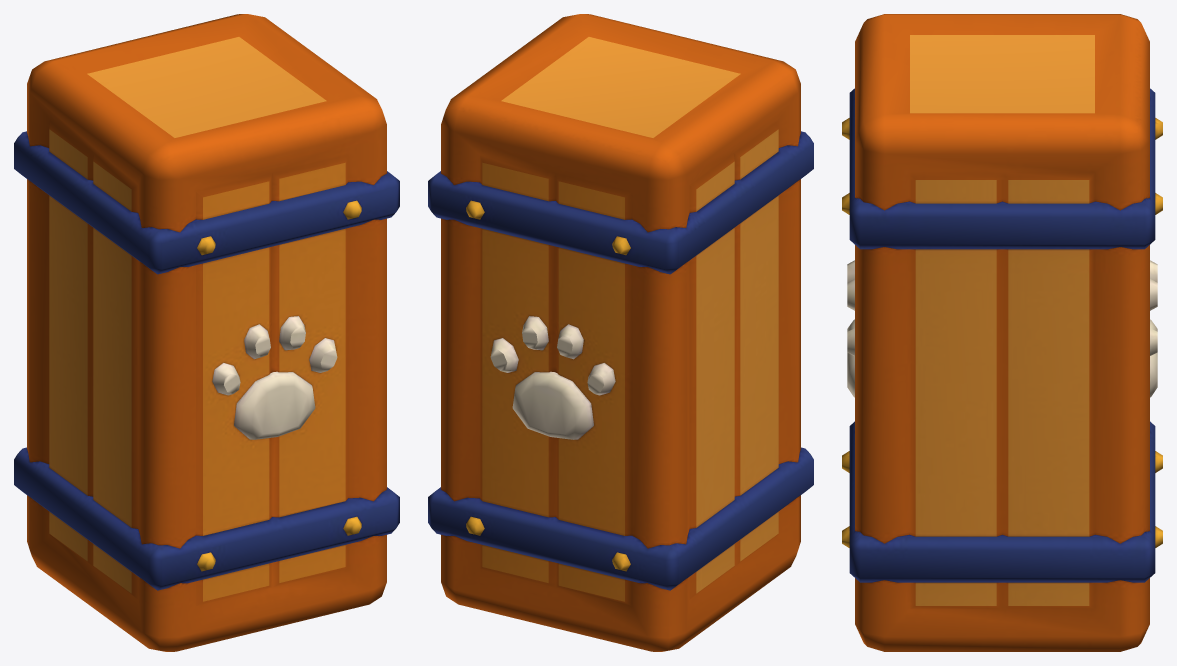
Rendered from pl_direk.glb.
The picture shows the model from 3 angles, left to right: view 1: azimuth 30°, elevation 25°; view 2: azimuth 150°, elevation 25°; view 3: azimuth 270°, elevation 25°; orthographic projection. The views are drawn at different scales.
Visible parts, largest first — view 1: pl_direk; view 2: pl_direk; view 3: pl_direk.
Part boxes in pixels (<box>): pl_direk: <box>14,14,399,651</box>; pl_direk: <box>428,14,813,651</box>; pl_direk: <box>842,14,1162,651</box>.
Size of the model in its own units: 1.6 by 3.09 by 1.68.
Materials: 1 (1 with a texture image).
